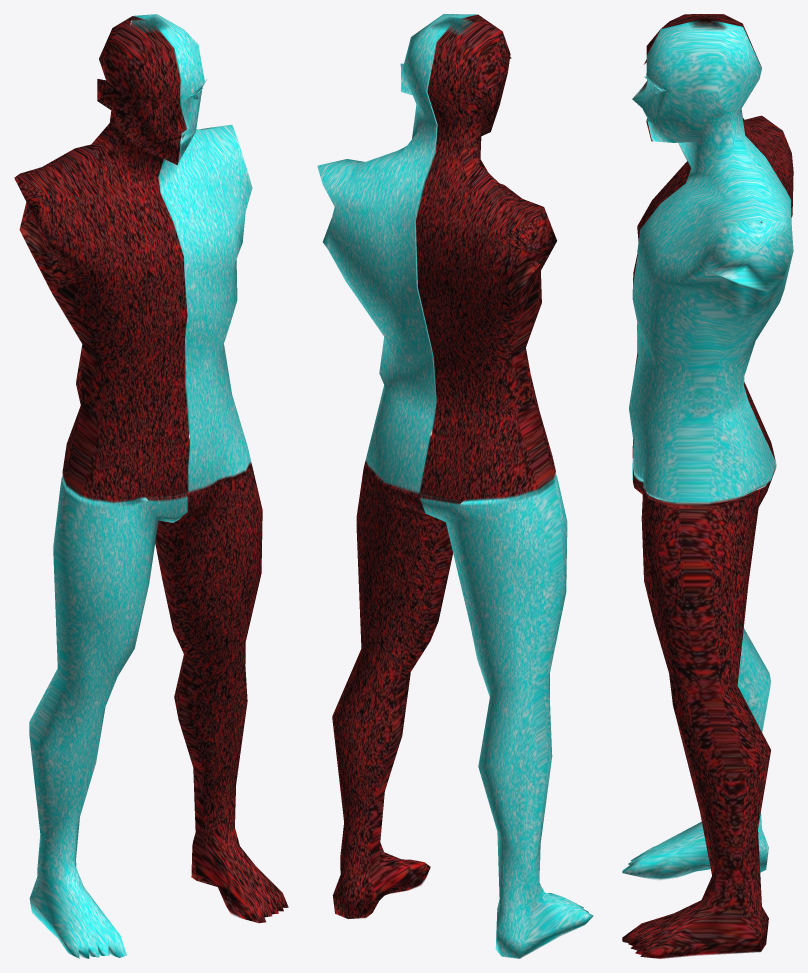
The picture shows the model from 3 angles, left to right: view 1: azimuth 30°, elevation 25°; view 2: azimuth 150°, elevation 25°; view 3: azimuth 270°, elevation 25°; orthographic projection.
Visible parts, largest first — view 1: SM_PlayerMesh_NoArms_LowPoly_LOD0; view 2: SM_PlayerMesh_NoArms_LowPoly_LOD0; view 3: SM_PlayerMesh_NoArms_LowPoly_LOD0.
Boxes of the visible parts, x1=… form: SM_PlayerMesh_NoArms_LowPoly_LOD0: x1=14, y1=14, x2=288, y2=958; SM_PlayerMesh_NoArms_LowPoly_LOD0: x1=317, y1=14, x2=593, y2=958; SM_PlayerMesh_NoArms_LowPoly_LOD0: x1=622, y1=14, x2=793, y2=958.
Size of the model in its own units: 0.4822 by 1.88 by 0.3275.
1 material, 1 textured.
